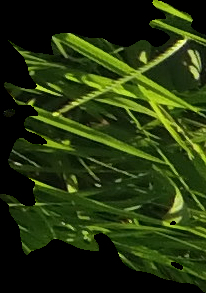grass: (1, 1, 205, 291)
